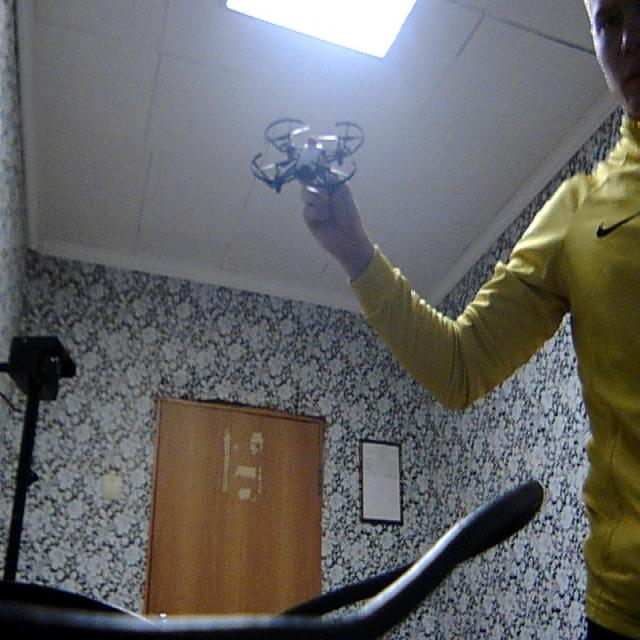drone: (249, 94, 368, 198)
